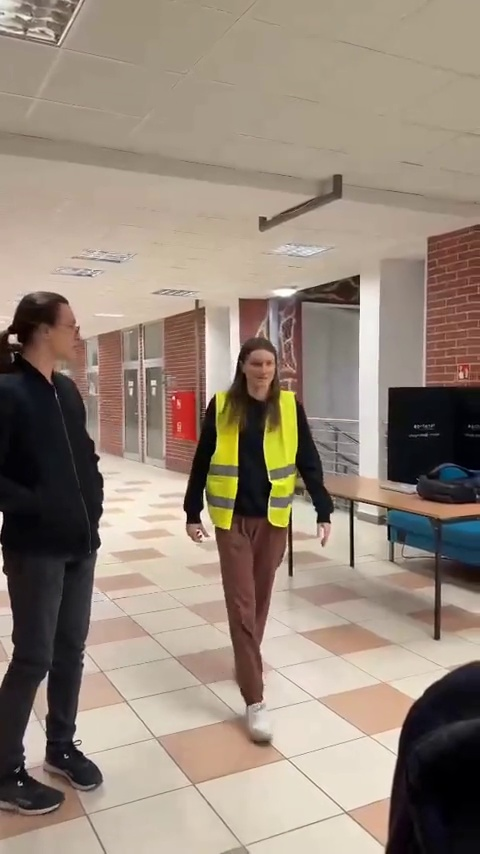no vest: (0, 292, 109, 821)
vest: (180, 332, 348, 745)
